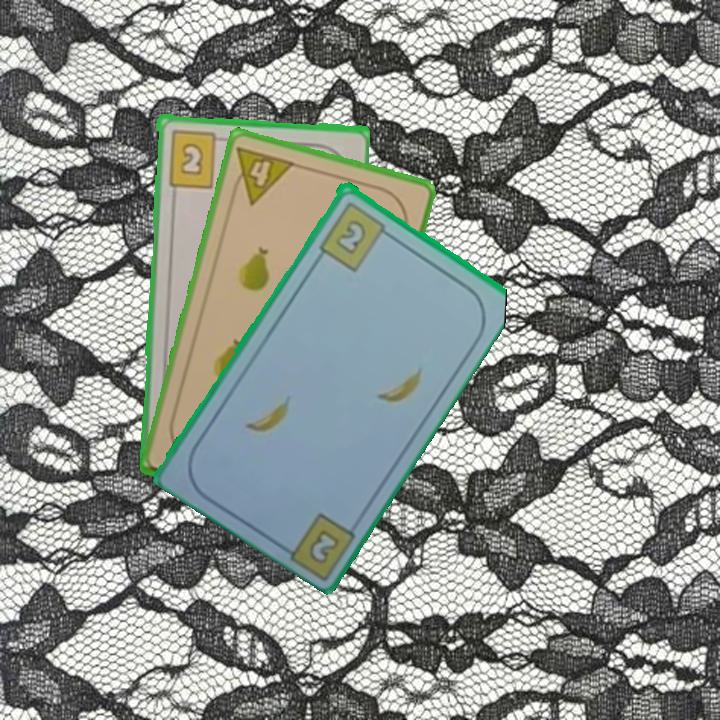2b: (315, 198, 395, 274), (164, 126, 228, 190), (308, 529, 339, 563)
4p: (226, 142, 298, 208)
